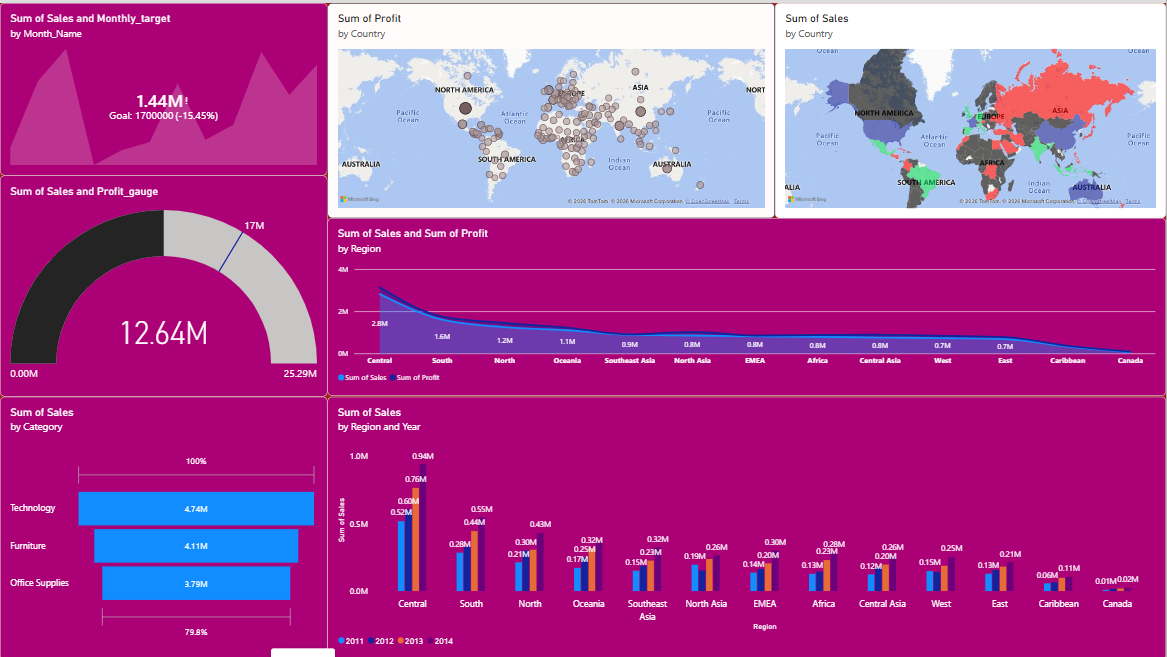

The page's visual inventory and layout, read from the dashboard file:
{"tool":"powerbi","page":{"name":"Page 2","canvas":[1920,1080],"ordinal":1},"visuals":[{"type":"kpi","fields":{"Goal":["Sheet1.Monthly_target"],"Indicator":["Sum(Sheet1.Sales)"],"TrendLine":["Sheet1.Month_Name"]},"box":[0,0,539.3,284.1],"z":0},{"type":"gauge","fields":{"TargetValue":["Sheet1.Profit_gauge"],"Y":["Sum(Sheet1.Sales)"]},"box":[0,284.1,539.3,363.7],"z":1000},{"type":"map","fields":{"Category":["Sheet1.Country"],"Size":["Sum(Sheet1.Profit)"]},"box":[539.3,0,736.5,354.7],"z":2000},{"type":"filledMap","fields":{"Category":["Sheet1.Country"]},"box":[1275.8,0,644.2,354.7],"z":3000},{"type":"stackedAreaChart","fields":{"Category":["Sheet1.Region"],"Y":["Sum(Sheet1.Sales)","Sum(Sheet1.Profit)"]},"box":[539.3,354.7,1380.8,293.2],"z":4000},{"type":"funnel","fields":{"Category":["Sheet1.Category"],"Y":["Sum(Sheet1.Sales)"]},"box":[0,647.9,539.3,432.5],"z":5000},{"type":"clusteredColumnChart","fields":{"Category":["Sheet1.Region"],"Series":["Sheet1.Year"],"Y":["Sum(Sheet1.Sales)"]},"box":[539.3,647.9,1380.8,432.5],"z":6000}]}

Visuals, with their boxes in screenshot pixels (x1, y1, x2, y2), scaled from the page's 1920x1080 canvas onto the 1167x657 screenshot:
kpi - Sheet1.Monthly_target x Sum(Sheet1.Sales): (0, 0, 328, 173)
gauge - Sheet1.Profit_gauge x Sum(Sheet1.Sales): (0, 173, 328, 394)
map - Sheet1.Country x Sum(Sheet1.Profit): (328, 0, 775, 216)
filledMap - Sheet1.Country: (775, 0, 1166, 216)
stackedAreaChart - Sheet1.Region x Sum(Sheet1.Sales): (328, 216, 1166, 394)
funnel - Sheet1.Category x Sum(Sheet1.Sales): (0, 394, 328, 656)
clusteredColumnChart - Sheet1.Region x Sheet1.Year: (328, 394, 1166, 656)
